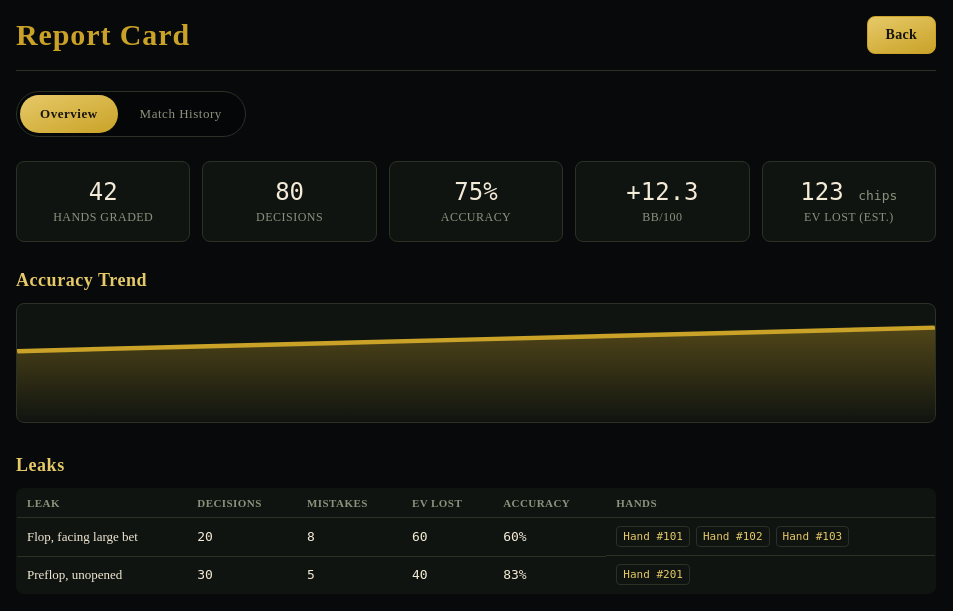
Test case: ReportCard match history › shows an empty state with no sessions
Click the tab "Match History": (181, 114) [120,95,242,133]
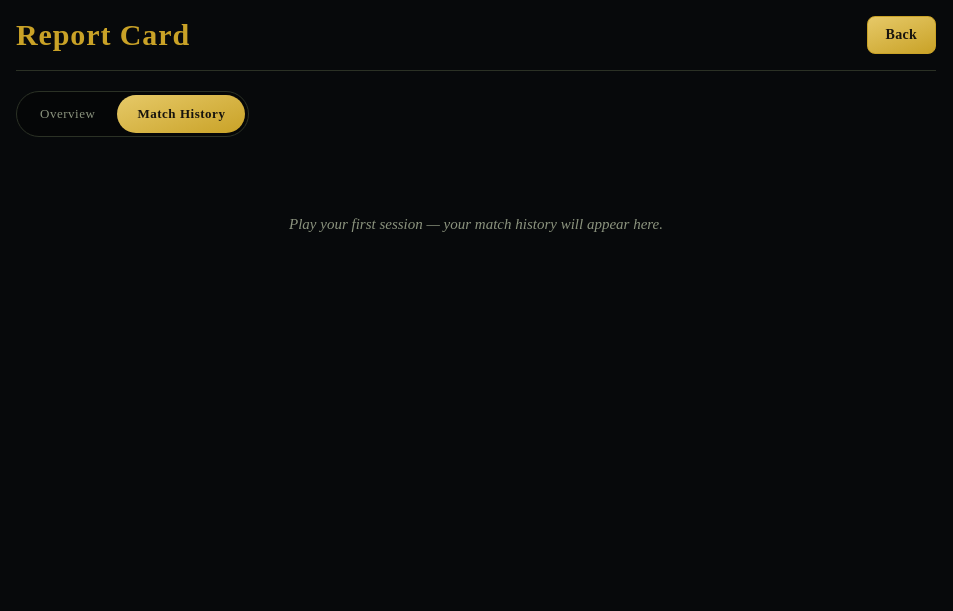
Now the text "Play your first session" is shown, box [289,216,663,232]
